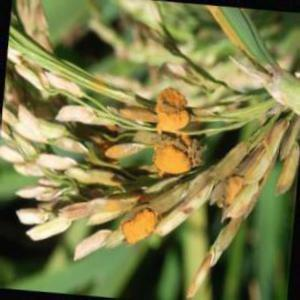Leaf_Scald: (148, 90, 197, 181), (118, 207, 162, 245), (217, 169, 257, 209)
